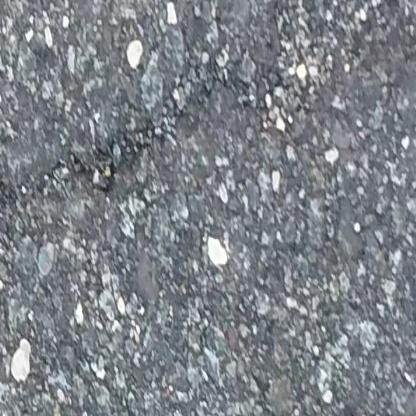Cracks: (0, 53, 302, 207)
